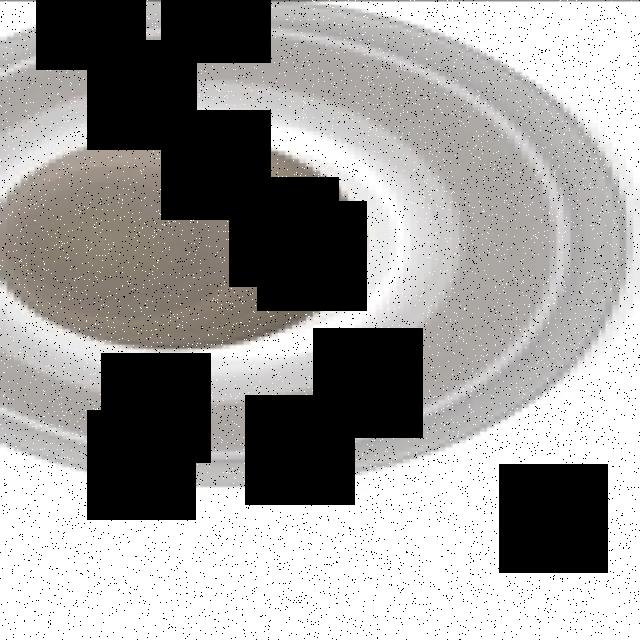Saturn: (0, 0, 633, 490)
